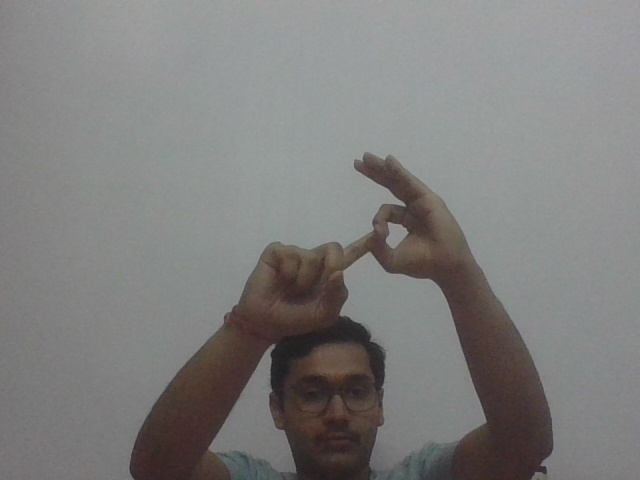Q: (225, 149, 449, 336)
